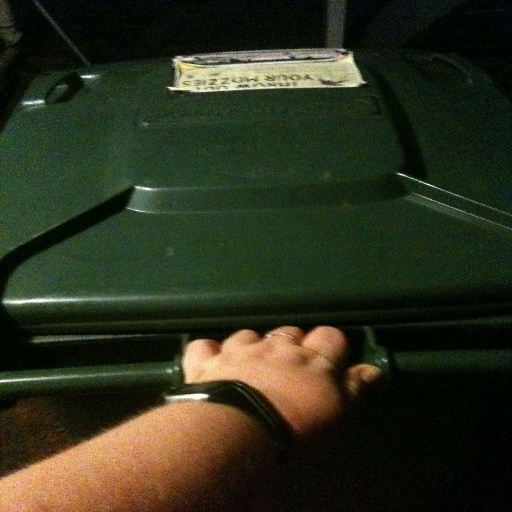hand: (171, 321, 389, 442)
